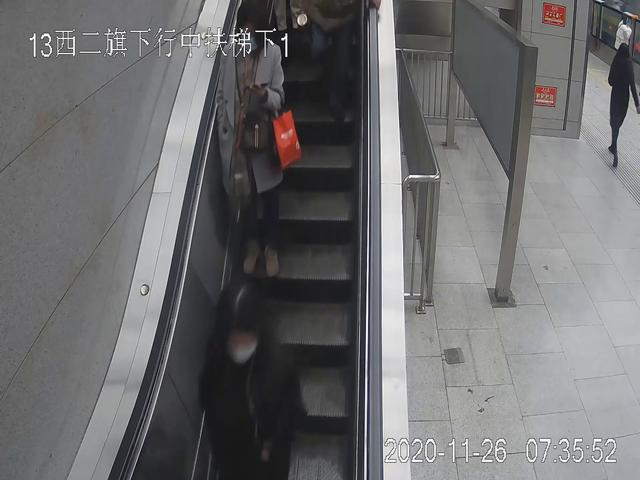person: (200, 285, 307, 480), (215, 5, 285, 276), (608, 43, 640, 167)
